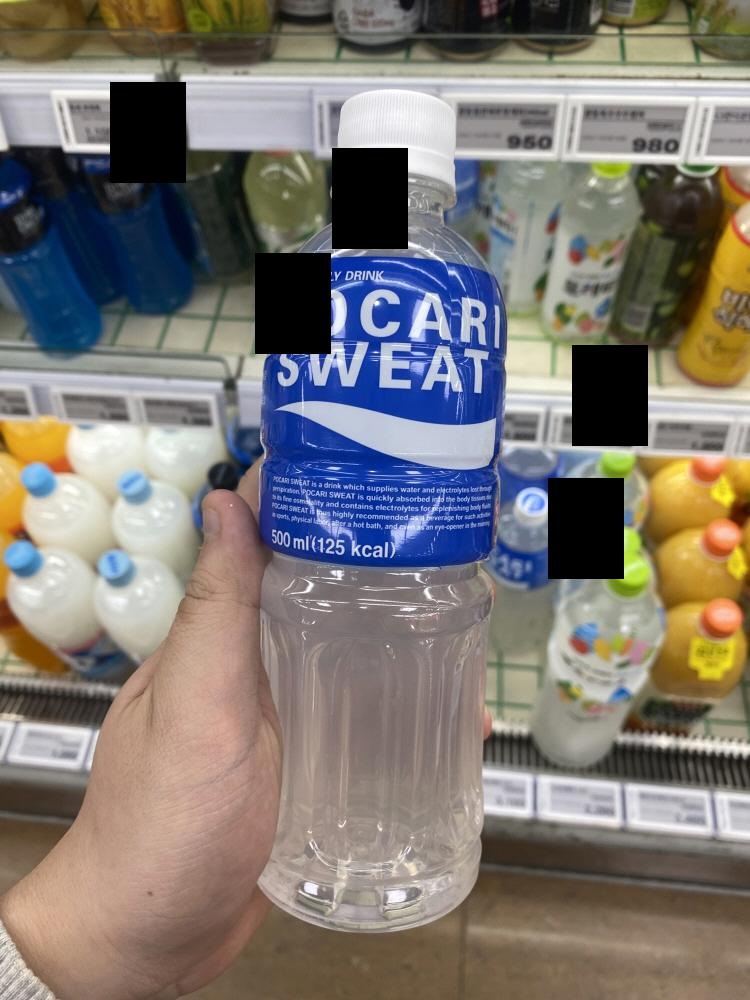pocarisweat: (248, 83, 511, 946)
